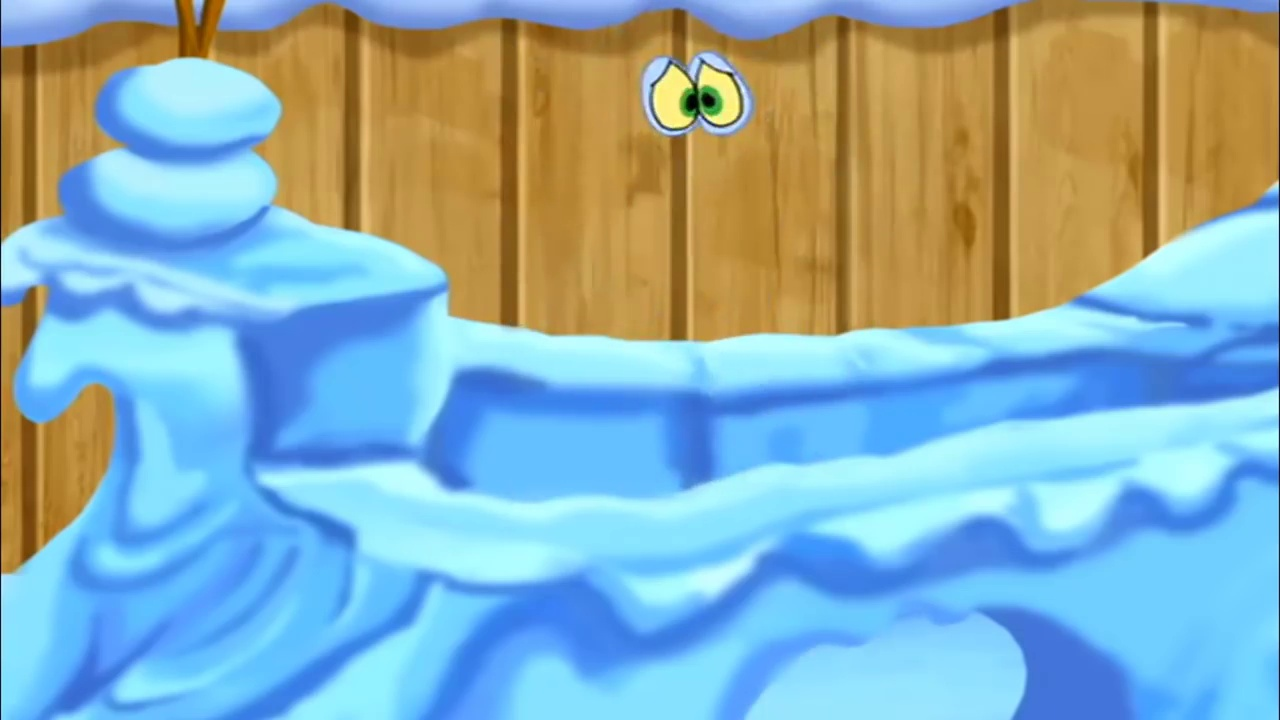face: (625, 48, 768, 148)
